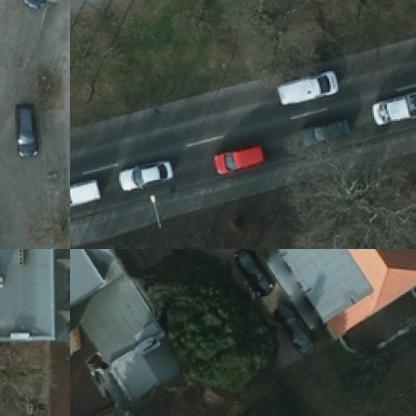car: (232, 250, 280, 302), (272, 306, 312, 361), (274, 74, 340, 107), (117, 161, 173, 193), (298, 121, 354, 151), (11, 106, 40, 160), (218, 149, 262, 176), (372, 102, 412, 129), (70, 182, 99, 213), (24, 0, 58, 15)
